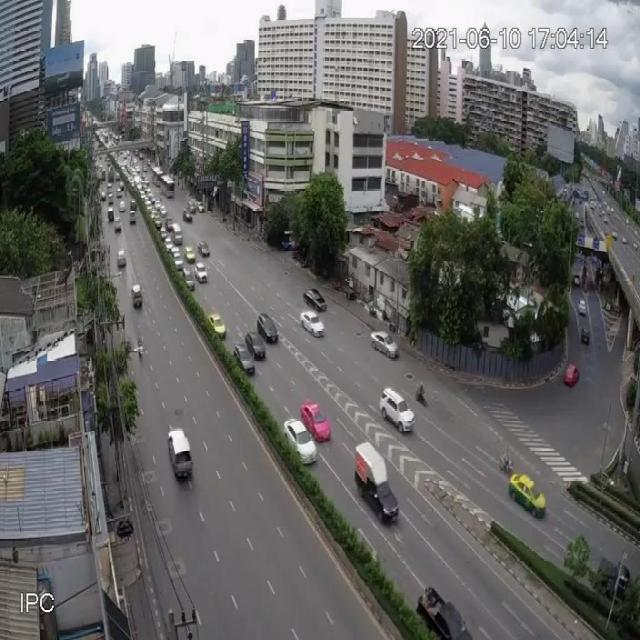Bus: (160, 174, 174, 200), (151, 165, 164, 187)
Car: (418, 583, 472, 640), (509, 471, 546, 519), (599, 558, 636, 604), (379, 387, 415, 434), (283, 418, 319, 462), (299, 398, 331, 443), (167, 426, 194, 478), (370, 332, 400, 359), (234, 344, 256, 376), (256, 312, 278, 342), (301, 310, 325, 337), (246, 331, 267, 360), (303, 288, 328, 312), (210, 313, 227, 338), (562, 364, 580, 386), (182, 268, 197, 290), (131, 284, 143, 307), (195, 262, 208, 283), (183, 246, 196, 264), (116, 248, 127, 268), (198, 241, 210, 257), (173, 253, 184, 270), (580, 328, 590, 346), (577, 298, 586, 316), (183, 208, 193, 222), (160, 228, 168, 242), (165, 238, 173, 251), (171, 247, 180, 258), (196, 201, 205, 212), (114, 218, 121, 232), (155, 214, 162, 228), (154, 200, 162, 212), (145, 200, 153, 212), (160, 204, 167, 217), (130, 210, 136, 222), (573, 275, 580, 285), (120, 201, 126, 211), (130, 200, 136, 210), (117, 187, 122, 197), (50, 220, 55, 221)
Cycle: (499, 453, 513, 475), (414, 388, 426, 404)
Van: (355, 443, 399, 523), (170, 221, 184, 247)
